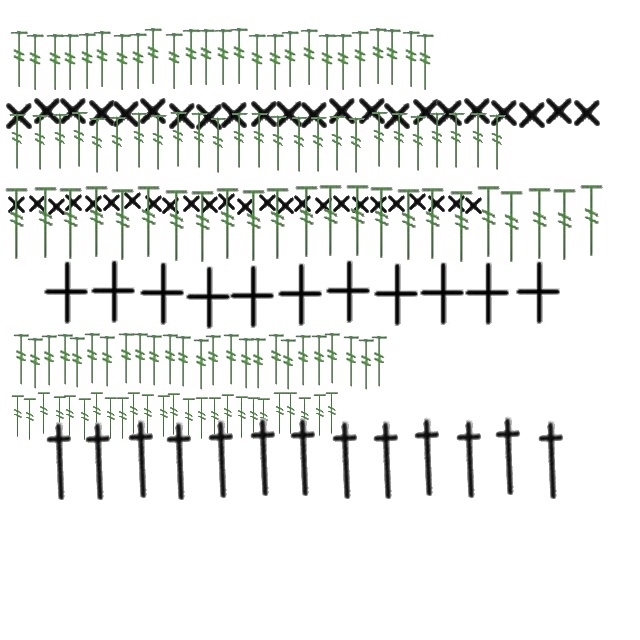double: (88, 260, 138, 324), (462, 262, 512, 326), (42, 261, 90, 325), (138, 262, 186, 326), (184, 266, 232, 330), (228, 265, 276, 329), (276, 263, 324, 327), (324, 260, 372, 324), (372, 263, 420, 327), (418, 262, 466, 326), (514, 261, 562, 325), (3, 98, 35, 132), (31, 93, 63, 127), (57, 93, 89, 127), (86, 95, 118, 129), (110, 96, 142, 130), (137, 93, 169, 127), (166, 98, 198, 132), (193, 99, 225, 133), (218, 97, 250, 131), (248, 96, 280, 130), (273, 96, 305, 130), (298, 97, 330, 131), (326, 93, 358, 127), (356, 93, 388, 127), (381, 98, 413, 132), (410, 94, 442, 128), (433, 95, 465, 129), (461, 93, 493, 127), (488, 95, 520, 129), (516, 97, 548, 131), (543, 93, 575, 127), (571, 95, 603, 129), (6, 193, 28, 215), (46, 195, 68, 217), (122, 189, 144, 211), (160, 194, 182, 216), (216, 190, 238, 212), (292, 192, 314, 214), (350, 193, 372, 215), (368, 193, 390, 215), (386, 192, 408, 214), (426, 192, 448, 214), (446, 192, 468, 214), (28, 192, 48, 214), (64, 191, 84, 213), (84, 192, 104, 214), (102, 191, 122, 213), (144, 192, 164, 214), (182, 192, 202, 214), (200, 193, 220, 215), (236, 195, 256, 217), (258, 191, 278, 213), (276, 194, 296, 216), (314, 194, 334, 216), (332, 192, 352, 214), (408, 190, 428, 212), (464, 194, 484, 216)
enseble_chain: (364, 420, 412, 502), (486, 416, 534, 498), (76, 422, 124, 502), (324, 420, 370, 502), (530, 420, 576, 502), (38, 422, 84, 502), (120, 420, 166, 500), (158, 422, 204, 502), (200, 420, 246, 500), (242, 418, 288, 498), (282, 418, 328, 498), (406, 418, 452, 498), (448, 420, 494, 500)
fan: (3, 186, 31, 262), (57, 186, 85, 262), (83, 184, 111, 260), (135, 184, 163, 260), (163, 188, 191, 264), (214, 186, 242, 262), (240, 188, 268, 264), (264, 186, 292, 262), (293, 184, 321, 260), (419, 186, 447, 262), (475, 184, 503, 260), (526, 186, 554, 262), (32, 186, 60, 260), (109, 188, 137, 262), (189, 190, 217, 264), (317, 184, 345, 258), (344, 184, 372, 258), (368, 186, 396, 260), (395, 188, 423, 262), (448, 190, 476, 264), (498, 190, 526, 264), (551, 188, 579, 262), (578, 184, 606, 258), (30, 112, 52, 174), (148, 112, 170, 174), (308, 114, 330, 176), (446, 110, 468, 172), (468, 110, 490, 172), (50, 112, 72, 172), (168, 110, 190, 170), (208, 116, 230, 176), (268, 114, 290, 174), (346, 116, 368, 176), (408, 114, 430, 174), (108, 114, 128, 176), (130, 110, 150, 172), (190, 110, 210, 172), (230, 110, 250, 172), (250, 110, 270, 172), (290, 114, 310, 176), (390, 110, 410, 172), (428, 110, 448, 172), (488, 112, 508, 174), (9, 30, 29, 90), (77, 32, 97, 92), (92, 30, 112, 90), (128, 32, 148, 92), (164, 32, 184, 92), (181, 28, 201, 88), (196, 28, 216, 88), (213, 28, 233, 88), (280, 30, 300, 90), (299, 28, 319, 88), (350, 30, 370, 90), (382, 28, 402, 88), (401, 30, 421, 90), (8, 112, 28, 172), (70, 110, 90, 170), (88, 116, 108, 176), (328, 114, 348, 174), (370, 110, 390, 170), (25, 34, 45, 92), (45, 34, 65, 92), (60, 34, 80, 92), (112, 34, 132, 92), (143, 28, 163, 86), (229, 28, 249, 86), (247, 34, 267, 92), (265, 34, 285, 92), (317, 34, 337, 92), (333, 34, 353, 92), (368, 28, 388, 86), (415, 34, 435, 92), (40, 334, 58, 388), (68, 336, 86, 390), (83, 332, 101, 386), (117, 332, 135, 386), (131, 332, 149, 386), (145, 334, 163, 388), (192, 338, 210, 392), (204, 334, 222, 388), (279, 338, 297, 392), (294, 334, 312, 388), (310, 334, 328, 388), (323, 332, 341, 386), (357, 338, 375, 392), (12, 334, 30, 386), (26, 338, 44, 390), (56, 334, 74, 386), (98, 336, 116, 388), (161, 334, 179, 386), (174, 336, 192, 388), (222, 334, 240, 386), (237, 338, 255, 390), (249, 338, 267, 390), (267, 334, 285, 386), (342, 336, 360, 388), (370, 336, 388, 388), (10, 394, 26, 438), (22, 397, 38, 441), (36, 391, 52, 435), (52, 395, 68, 439), (62, 394, 78, 438), (77, 397, 93, 441), (89, 391, 105, 435), (103, 396, 119, 440), (115, 396, 131, 440), (126, 391, 142, 435), (140, 393, 156, 437), (156, 394, 172, 438), (166, 392, 182, 436), (181, 397, 197, 441), (194, 396, 210, 440), (207, 396, 223, 440), (220, 393, 236, 437), (234, 395, 250, 439), (246, 396, 262, 440), (256, 397, 272, 441), (272, 391, 288, 435), (283, 391, 299, 435), (297, 396, 313, 440), (312, 393, 328, 437), (324, 391, 340, 435)
